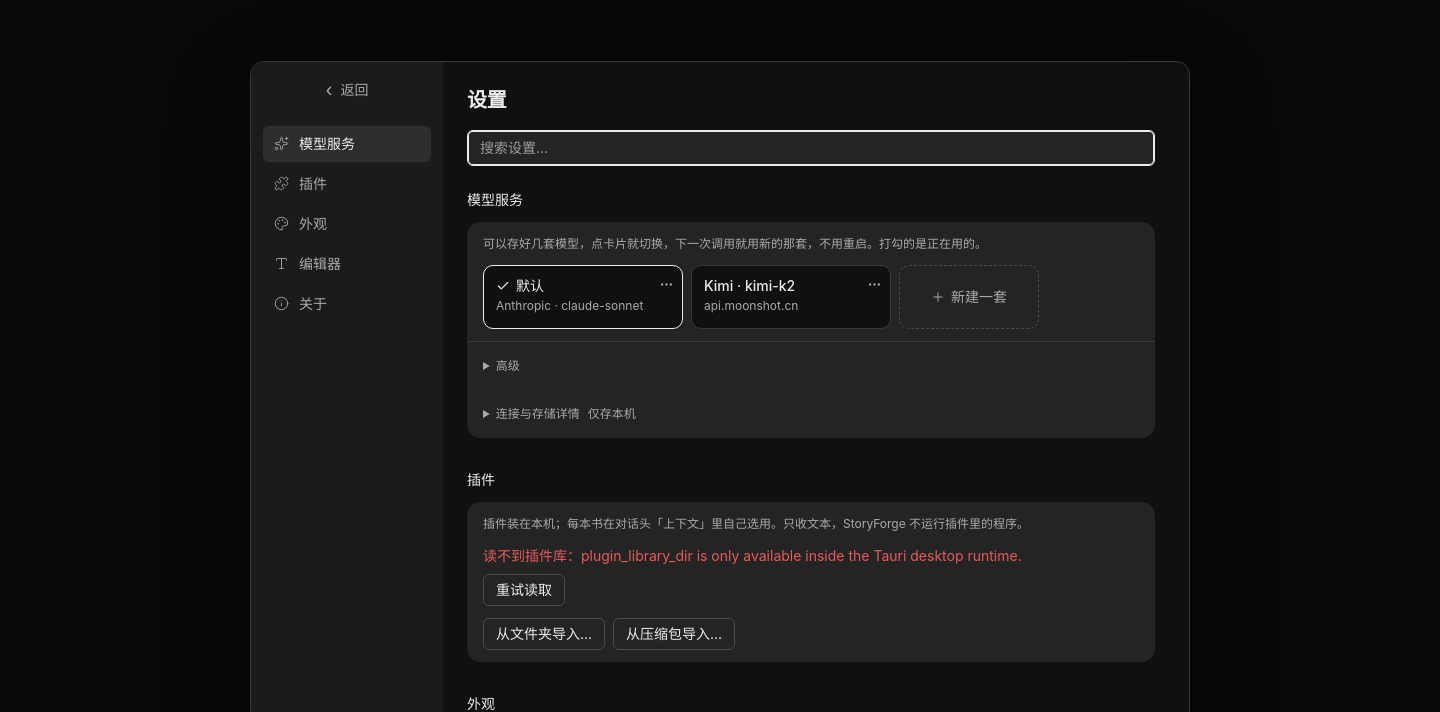
it: 保存当前那套后走引擎的真实出网链路测一次，结果写在卡片上
The image size is (1440, 712).
Click the 1st button with test id "model-profile-menu": (666, 284) [654,272,678,296]
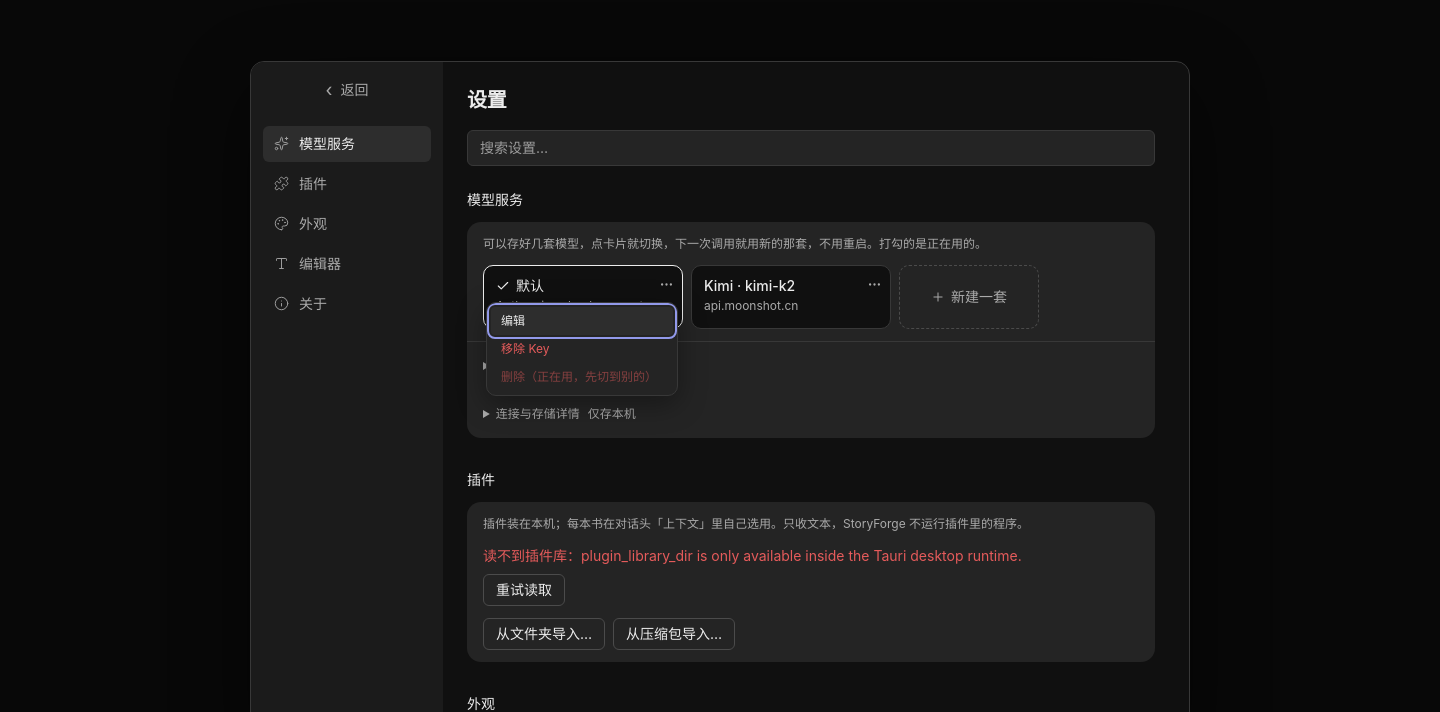
expect the menu item "编辑" is shown: met
Click the menu item "编辑": (582, 321) [491,307,673,335]
(page scrolled)
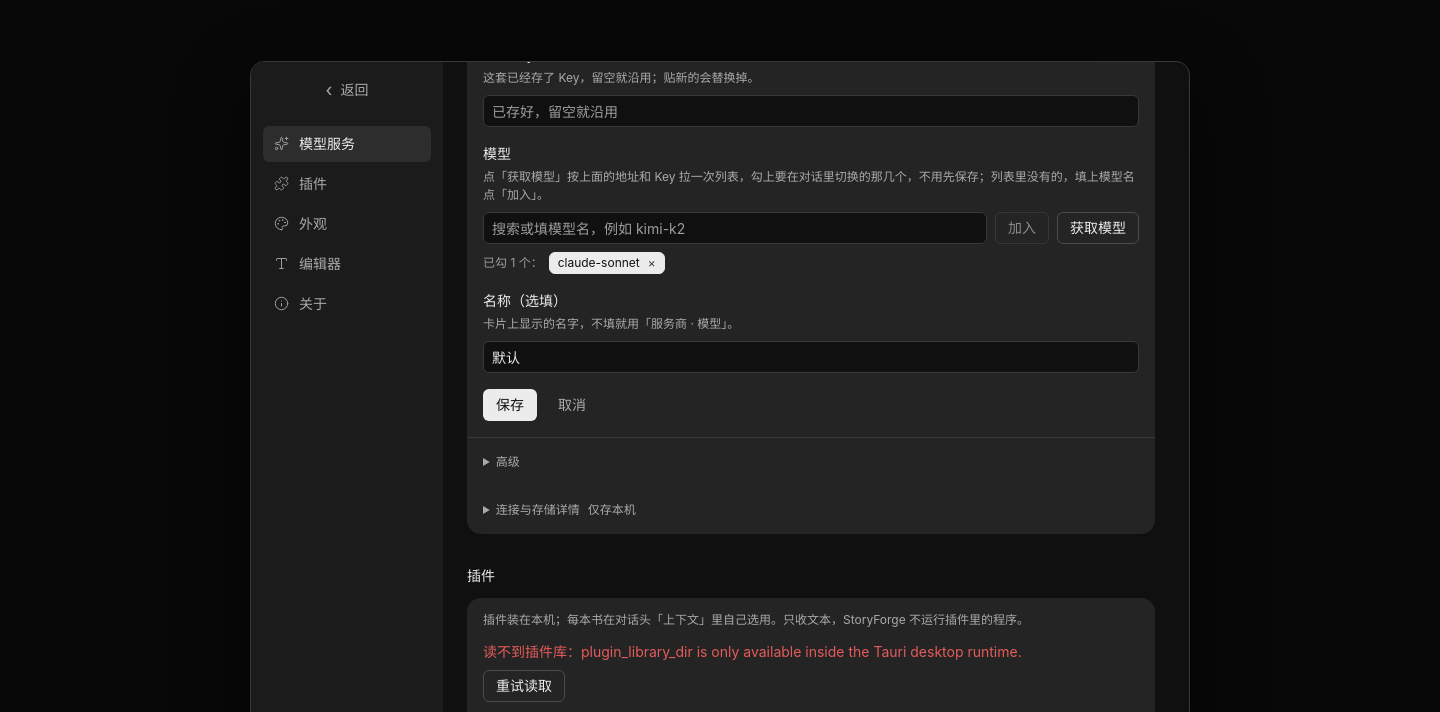
Click the button "保存": (510, 405) [483,389,537,421]
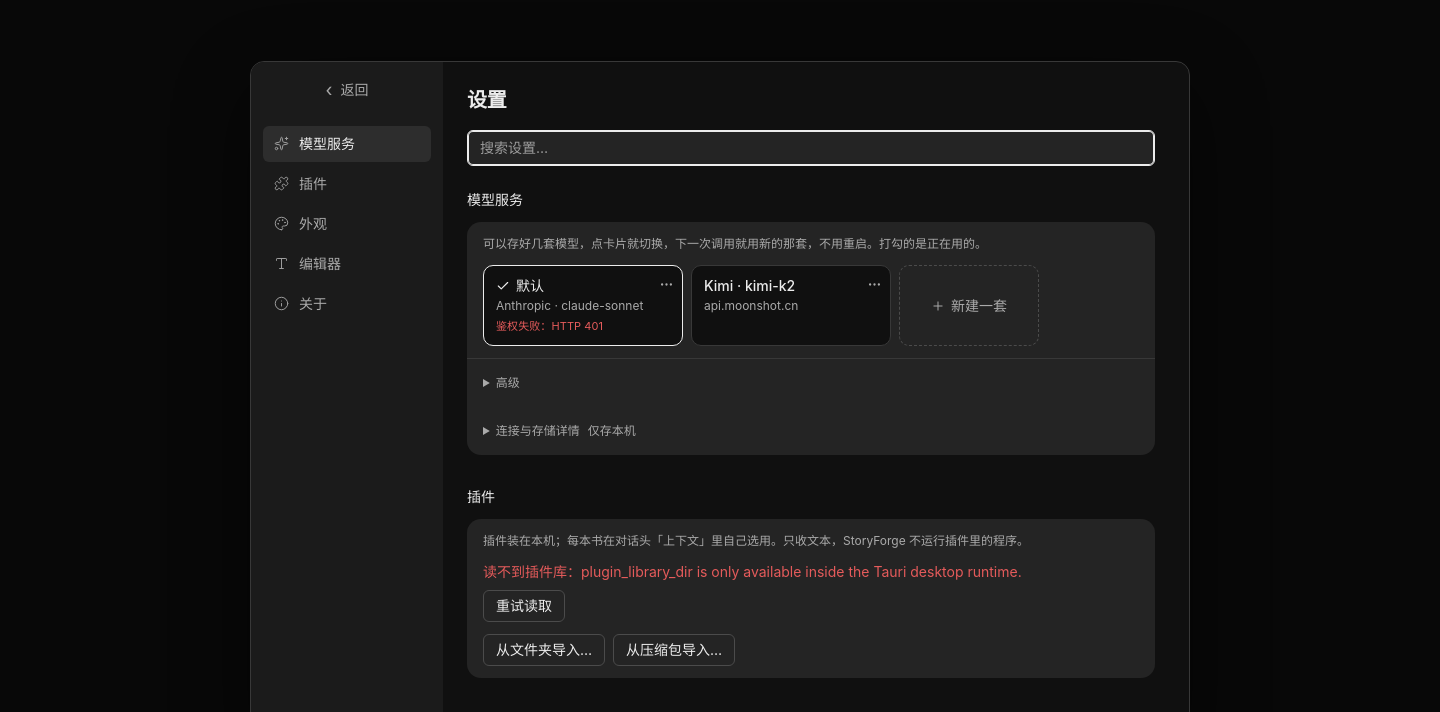
expect the text with test id "model-profile-status" shows "鉴权失败": met, box [496,319,603,333]
